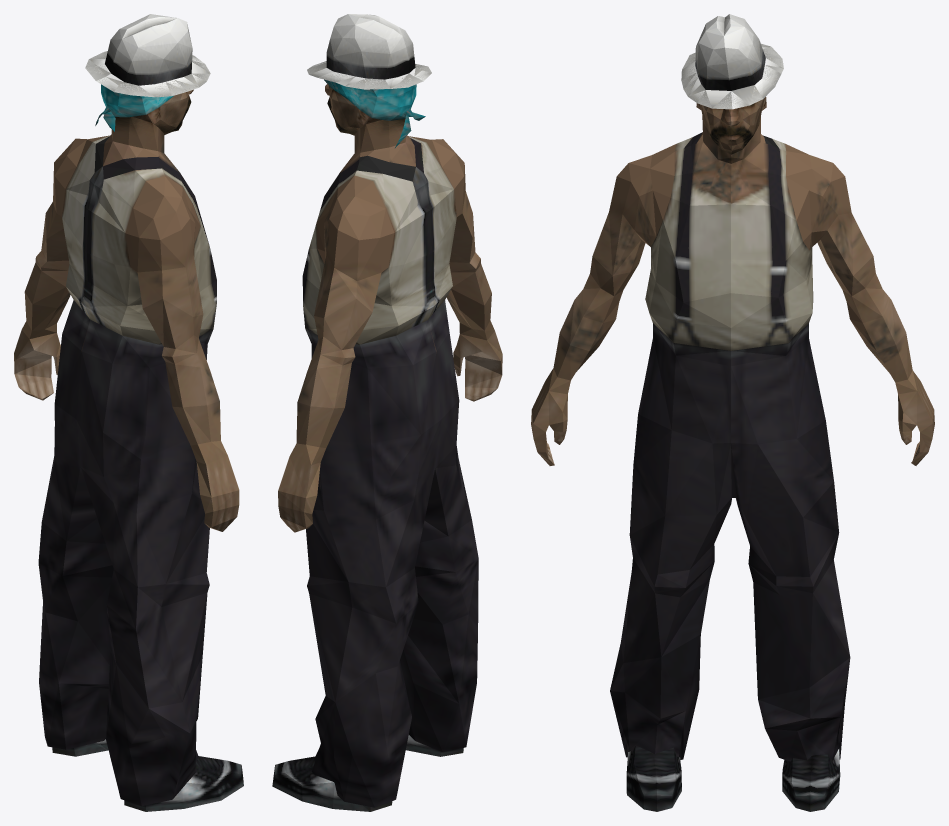
The model's file is sfr1.obj.
3 renders of one model, left to right at view 1: azimuth 30°, elevation 25°; view 2: azimuth 150°, elevation 25°; view 3: azimuth 270°, elevation 25°, orthographic. The views are drawn at different scales.
Visible parts, largest first — view 1: _Pelvis; view 2: _Pelvis; view 3: _Pelvis.
Part boxes in pixels (x1,y1,x2,y2): _Pelvis: (14, 14, 243, 811); _Pelvis: (272, 14, 502, 811); _Pelvis: (531, 14, 934, 811).
Bounding box in the file's own units: 0.3549 × 1.94 × 0.9308.
1 material, 1 textured.
